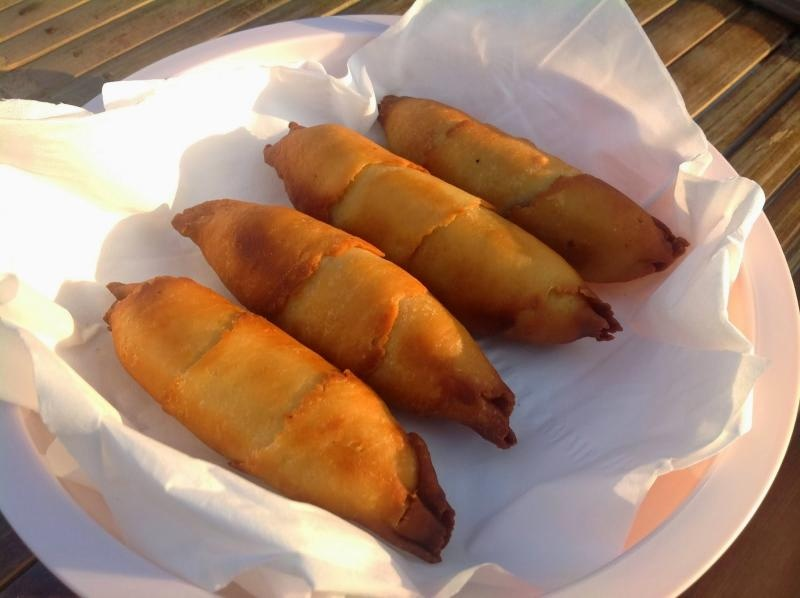pisang_molen: (100, 275, 457, 565), (167, 193, 517, 453), (261, 122, 622, 348), (376, 96, 689, 287)
